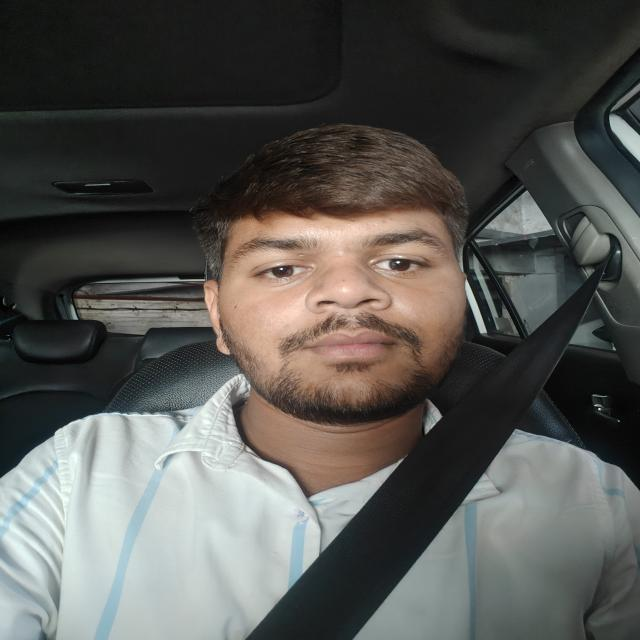seatbelt: (183, 225, 640, 640)
